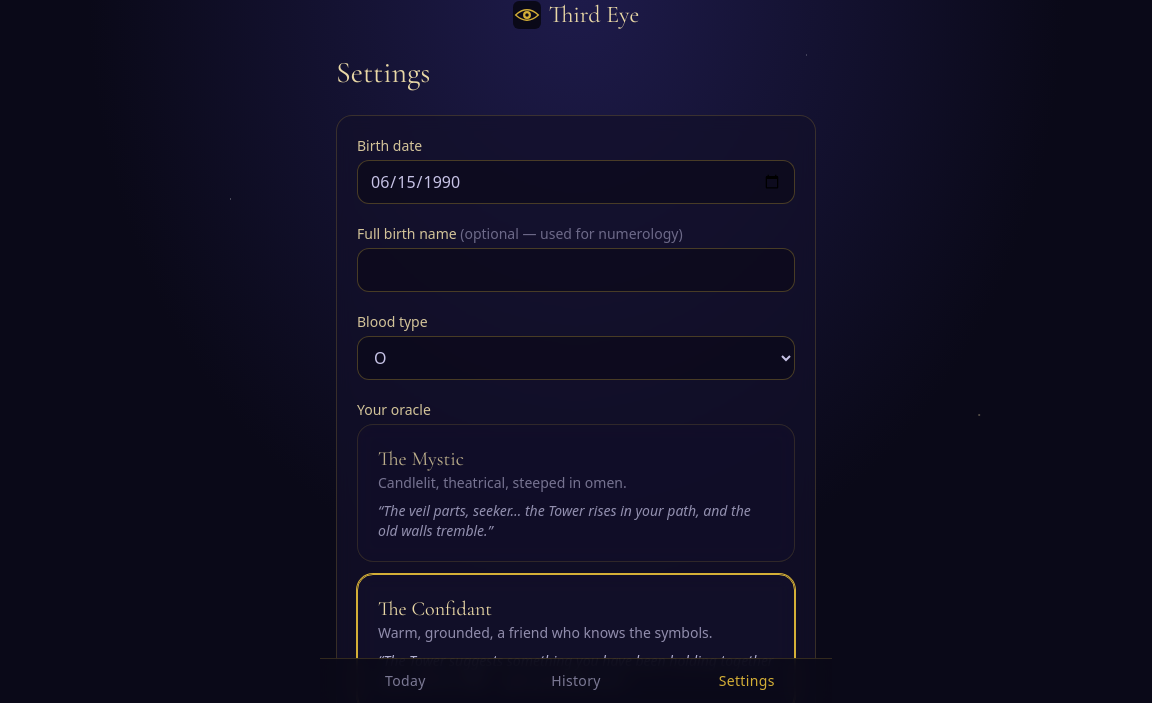
it: Settings › prefills the profile and saves changes
Check: the date field labelled "Birth date" holds "1990-06-15", box [357,160,795,204]
Check: the dropdown labelled "Blood type" shows "O", box [357,336,795,380]
Click the radio button labelled "The Mystic": (576, 493) [357,424,795,562]
(page scrolled)
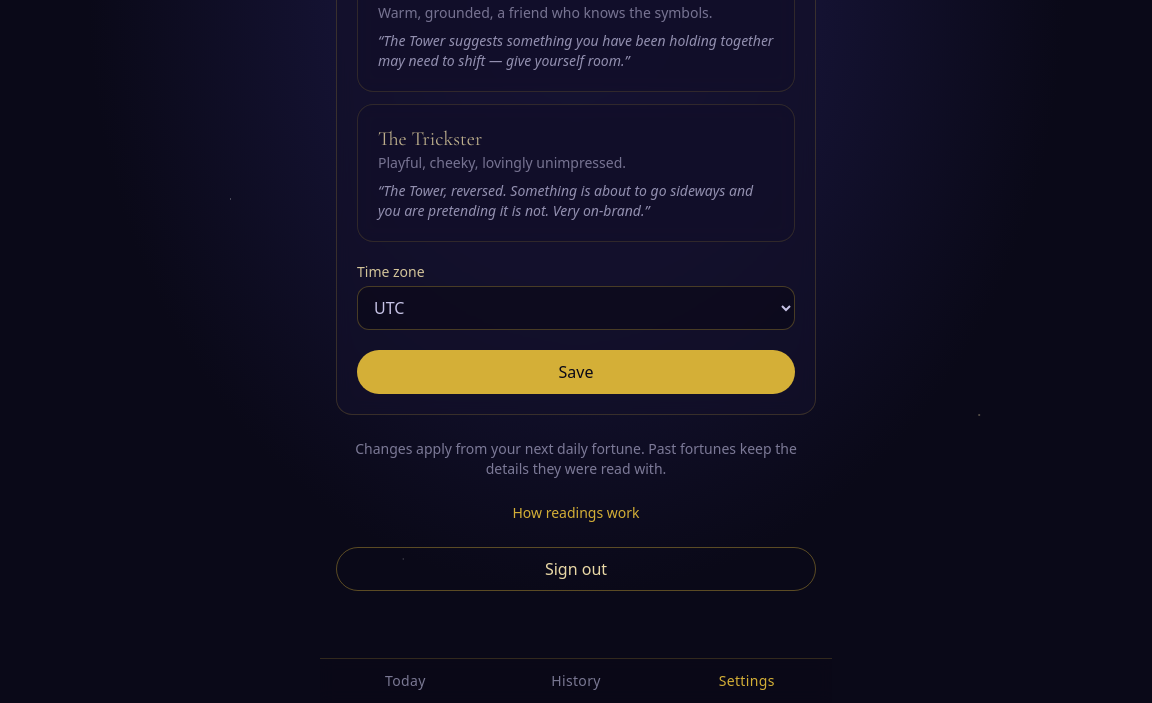
Click the button "Save": (576, 372) [357,350,795,394]
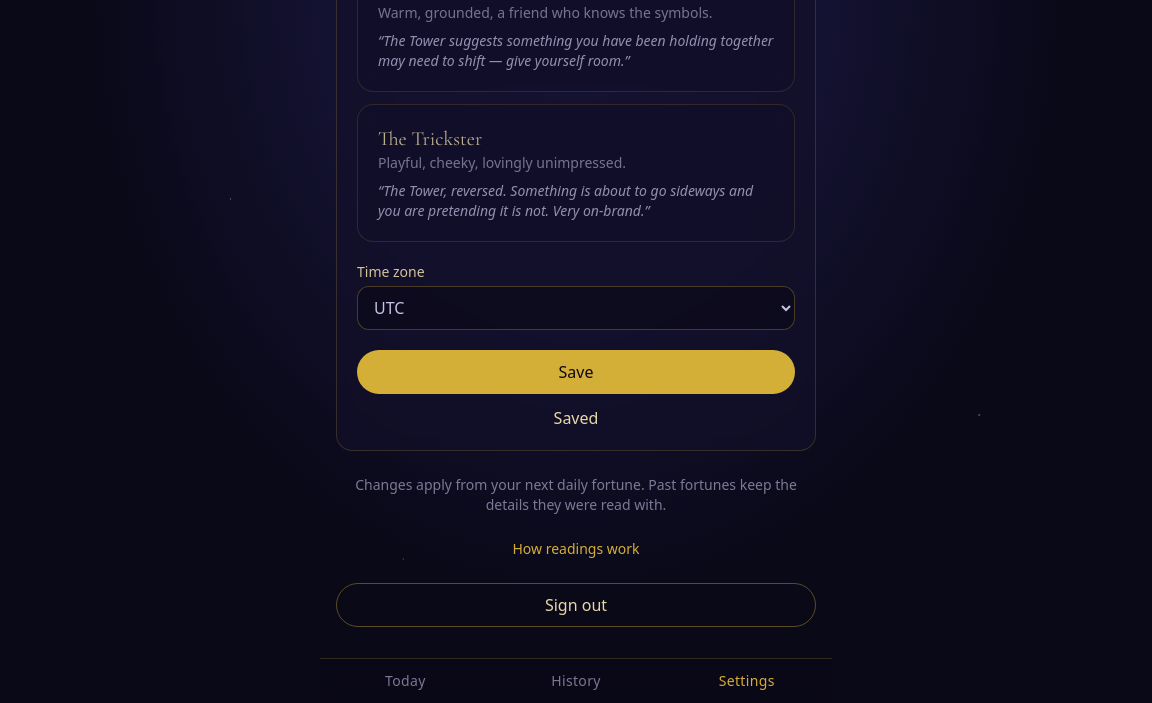
Check: the text "Saved" is shown, box [554,407,598,429]
